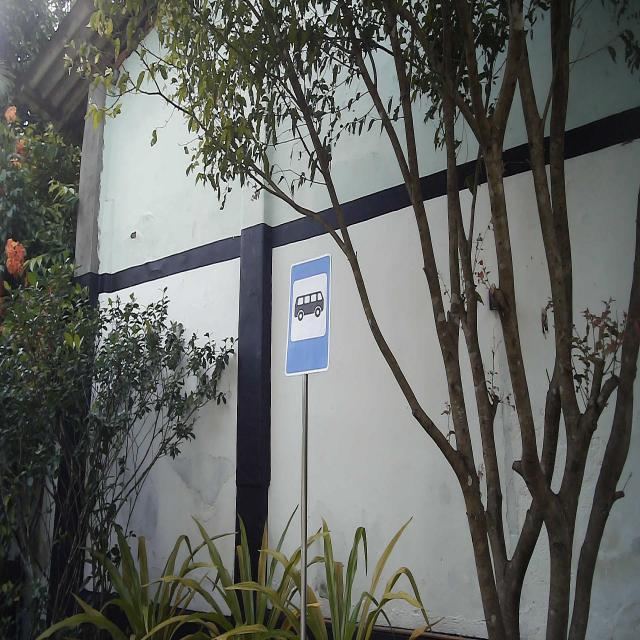bus_stop: (284, 252, 334, 378)
